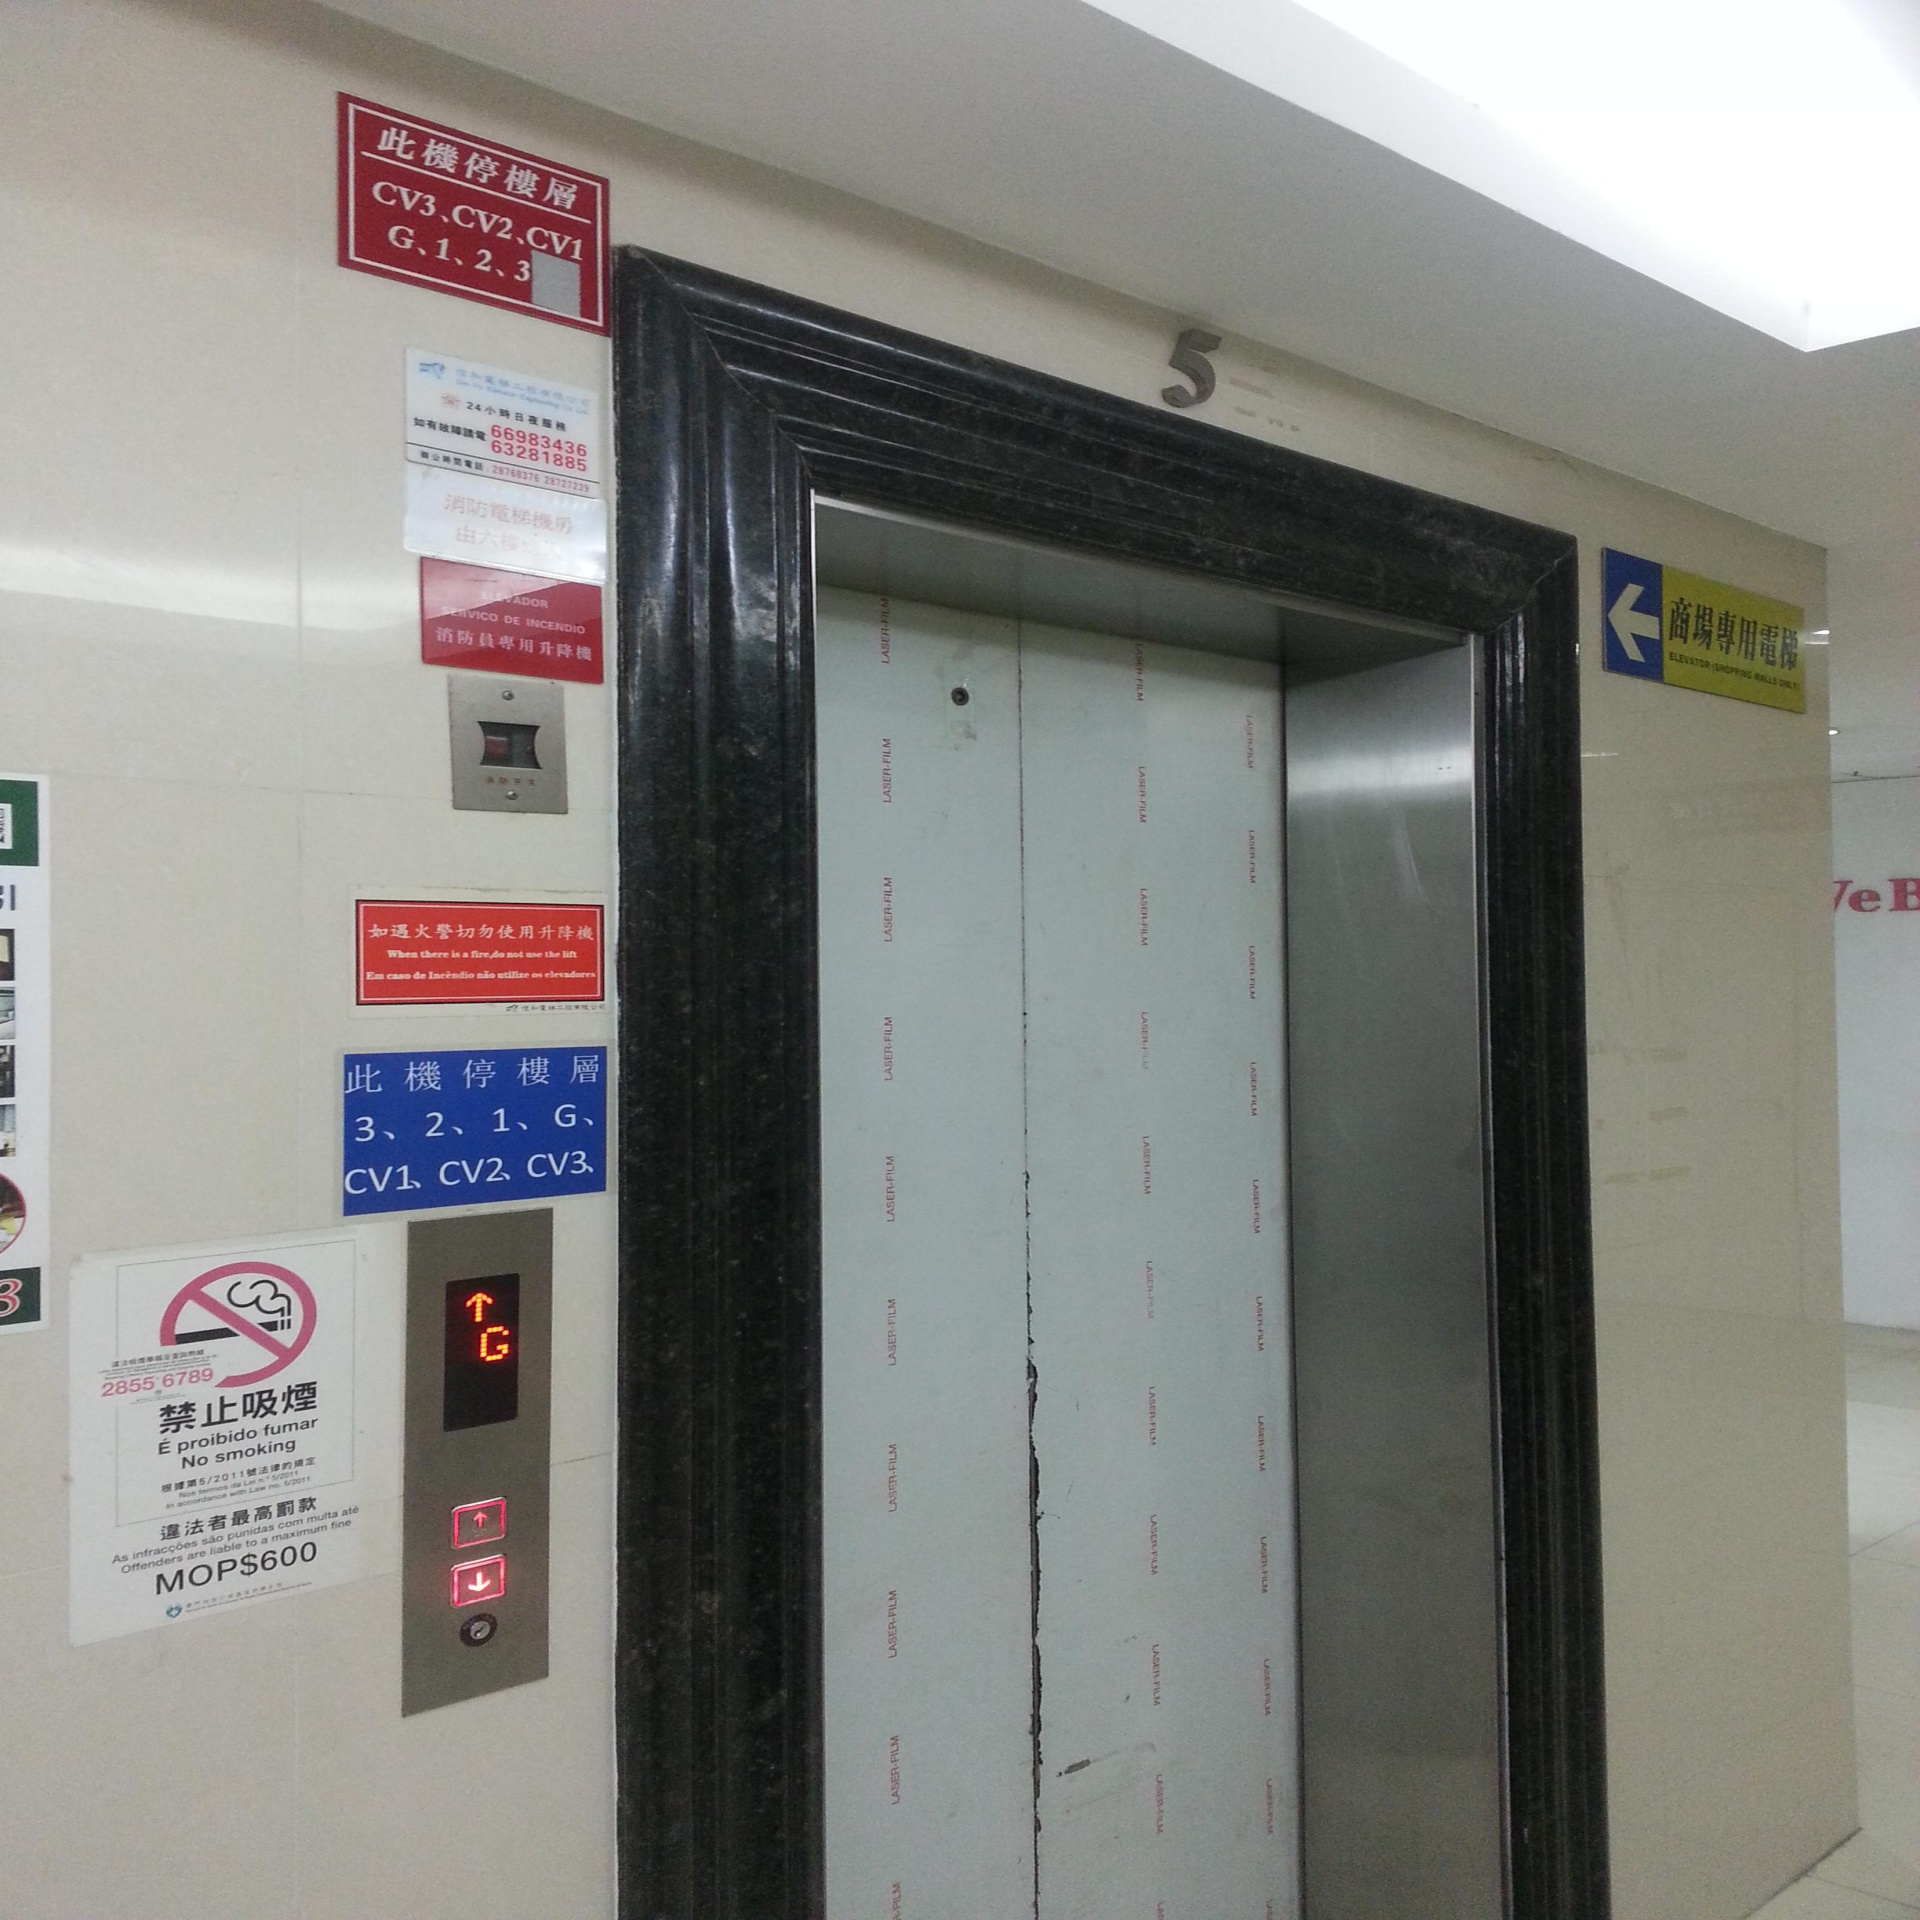down: (448, 1551, 506, 1609)
keyhole: (459, 1612, 499, 1647)
led: (441, 1271, 519, 1433)
up: (450, 1495, 506, 1551)
